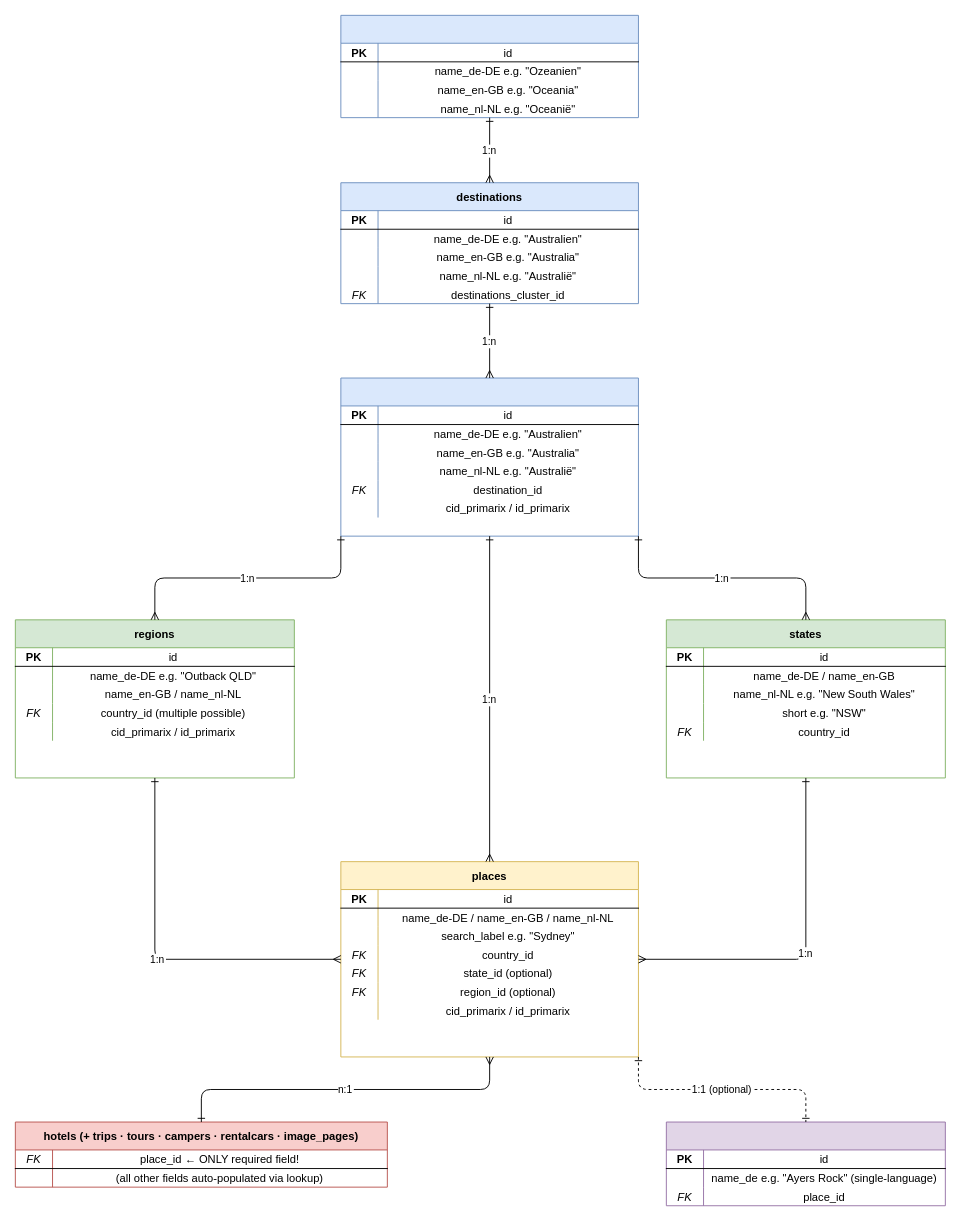
This 961x1221 diagram has some shape labels left out. Each missing label, with the box of its shape:
countries: (340, 377, 638, 536)
destinations_cluster: (340, 14, 638, 118)
locations_tour32: (665, 1121, 945, 1206)
